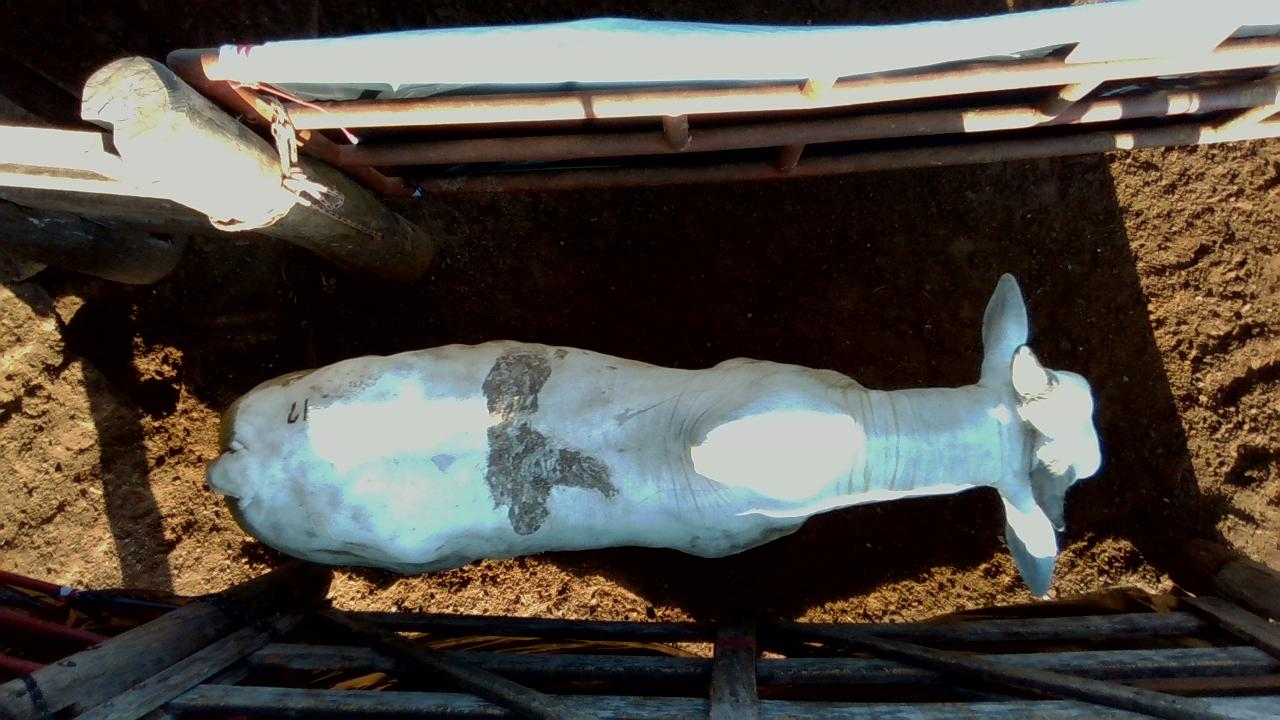cattle: (205, 270, 1103, 600)
